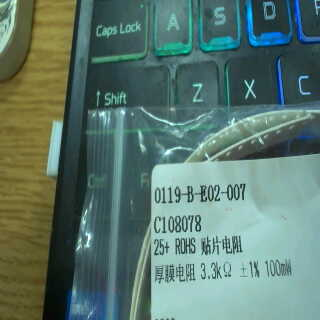3.3kO: (196, 258, 235, 283)
